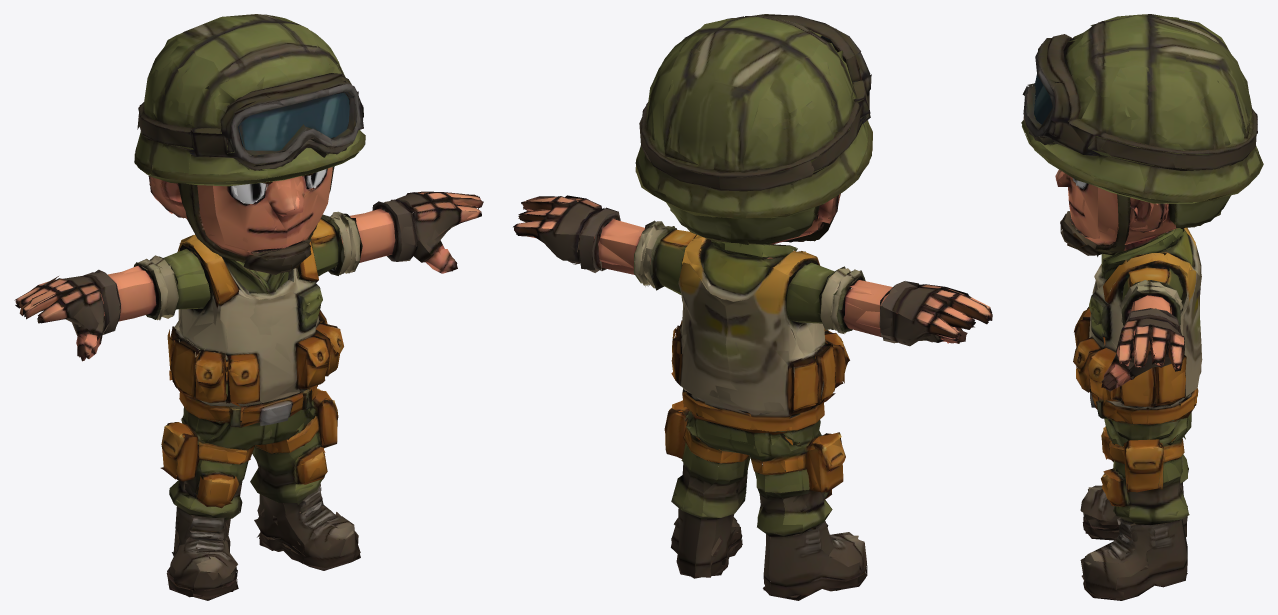
The model's file is Soldier.fbx.
3 renders of one model, left to right at view 1: azimuth 30°, elevation 25°; view 2: azimuth 150°, elevation 25°; view 3: azimuth 270°, elevation 25°, orthographic. The views are drawn at different scales.
Visible parts, largest first — view 1: Soldier; view 2: Soldier; view 3: Soldier.
Boxes of the visible parts, box(x1,y1,x2,y2) form: Soldier: box(14, 14, 483, 600); Soldier: box(513, 14, 992, 600); Soldier: box(1021, 14, 1263, 600).
Bounding box in the file's own units: 1.62 × 1.8 × 0.7434.
Materials: 1 (1 with a texture image).
